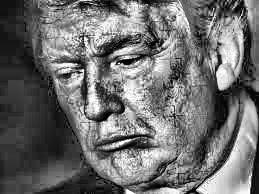sad: (30, 44, 203, 184)
